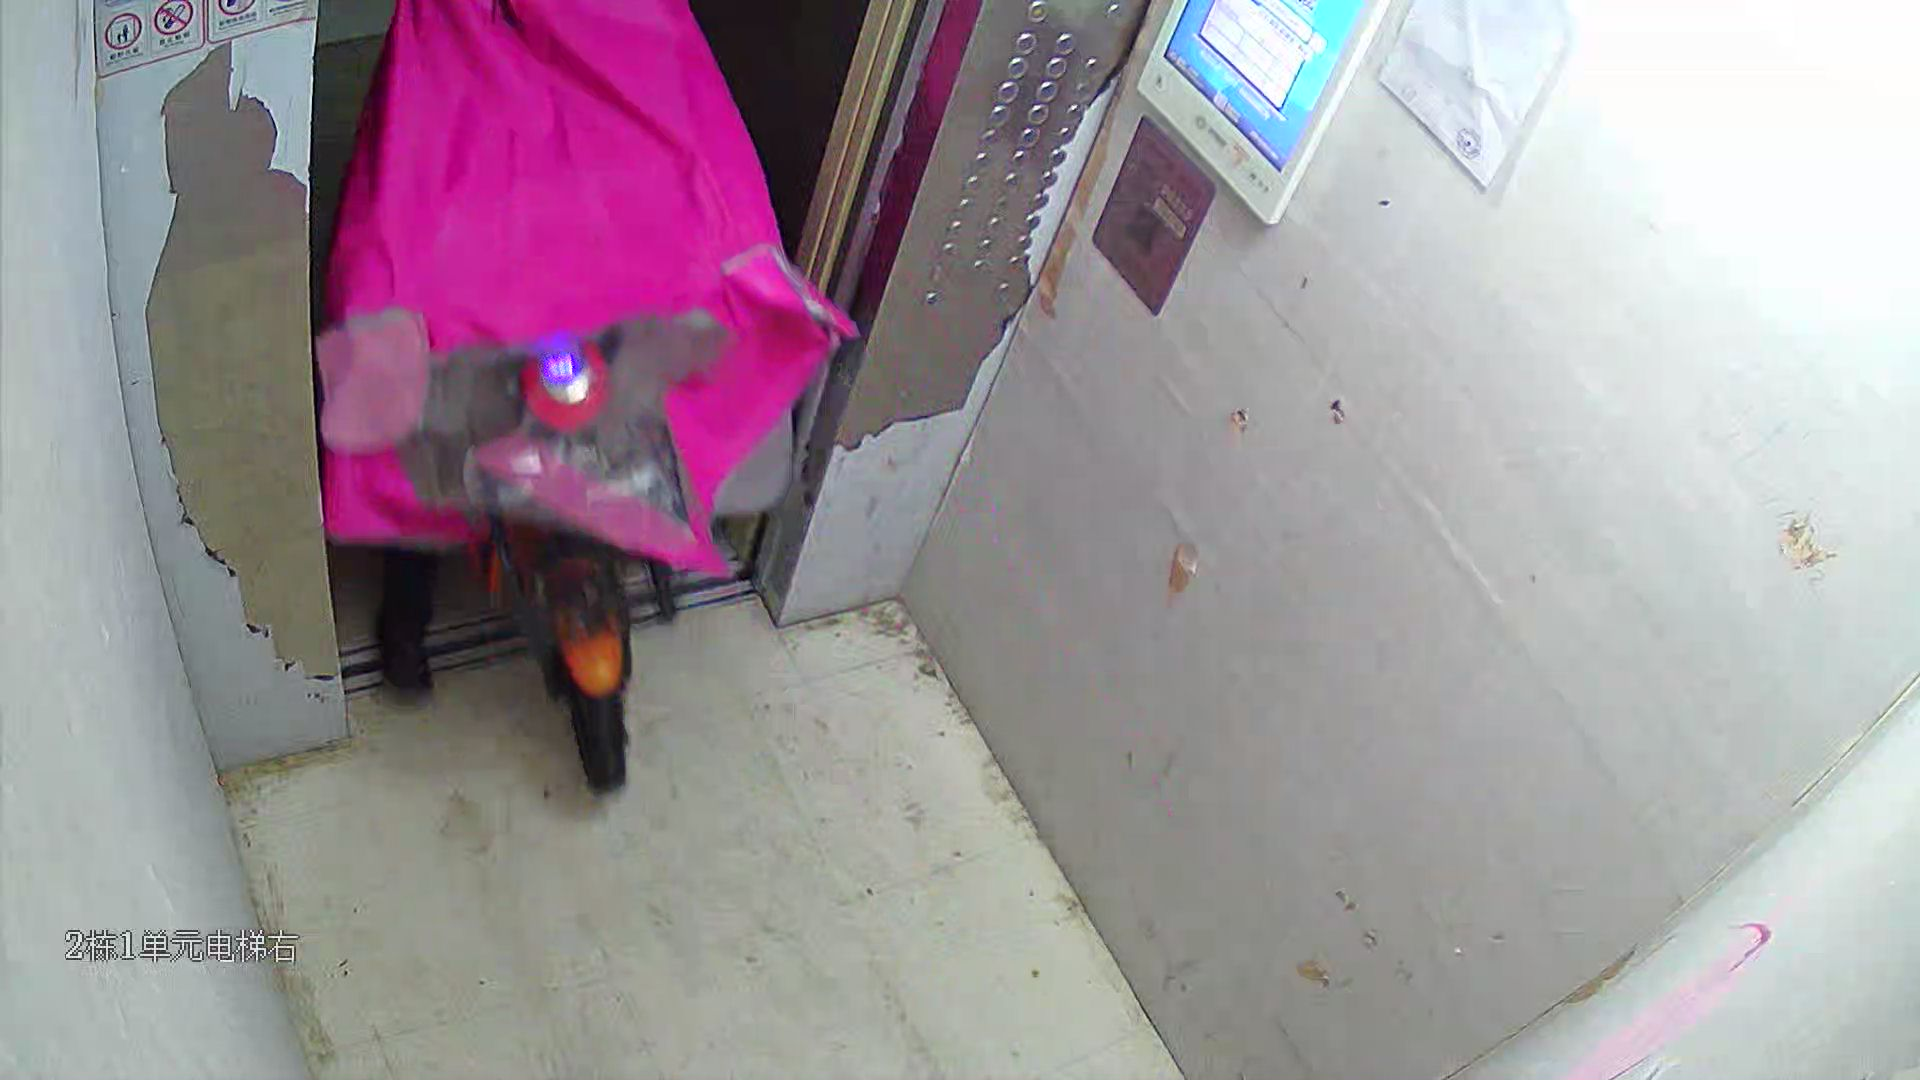Electric-bicycle: (433, 311, 844, 793)
